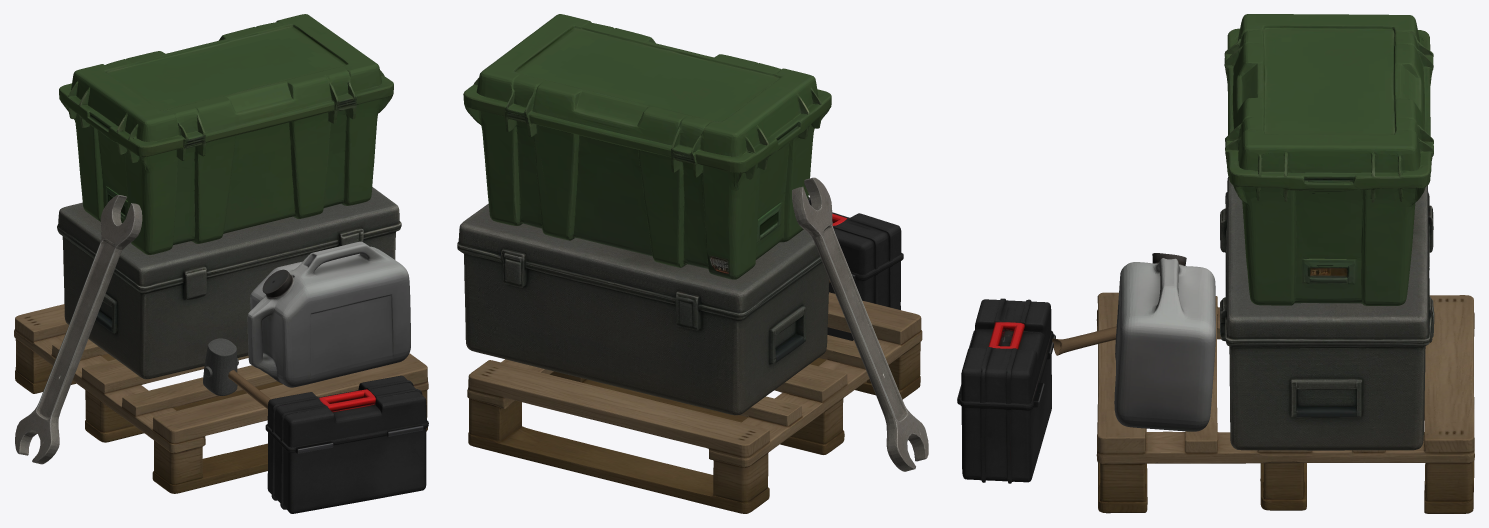
File: phi-scene.glb
The picture shows the model from 3 angles, left to right: view 1: azimuth 30°, elevation 25°; view 2: azimuth 150°, elevation 25°; view 3: azimuth 270°, elevation 25°; orthographic projection. The views are drawn at different scales.
Parts seen in each view (by area): view 1: object_06, object_05, object_04, object_02, object_03, object_01, object_00; view 2: object_06, object_05, object_04, object_01, object_03; view 3: object_06, object_05, object_04, object_02, object_03, object_00.
Boxes of the visible parts, box(x1,y1,x2,y2) form: object_06: box(59, 14, 393, 254); object_05: box(57, 187, 401, 379); object_04: box(14, 304, 428, 493); object_02: box(247, 241, 410, 387); object_03: box(265, 375, 428, 513); object_01: box(15, 195, 142, 464); object_00: box(203, 338, 270, 408); object_06: box(463, 14, 831, 279); object_05: box(457, 204, 829, 415); object_04: box(467, 292, 922, 513); object_01: box(792, 177, 928, 471); object_03: box(808, 197, 903, 340); object_06: box(1224, 14, 1433, 305); object_05: box(1220, 177, 1434, 450); object_04: box(1096, 292, 1474, 513); object_02: box(1114, 253, 1215, 431); object_03: box(957, 298, 1055, 483); object_00: box(1052, 326, 1116, 355).
Size of the model in its own units: 0.9681 by 0.8311 by 1.03.
Materials: 7 (7 with a texture image).
